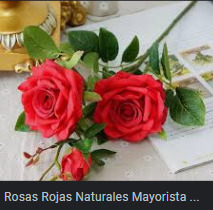RedRose: (92, 68, 171, 147), (14, 56, 86, 142)
